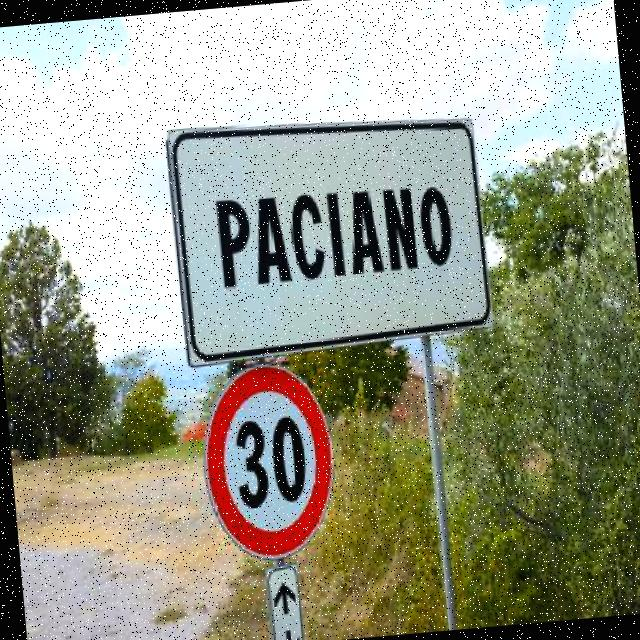Ograniczenie predkosci do 30: (198, 362, 340, 562)
